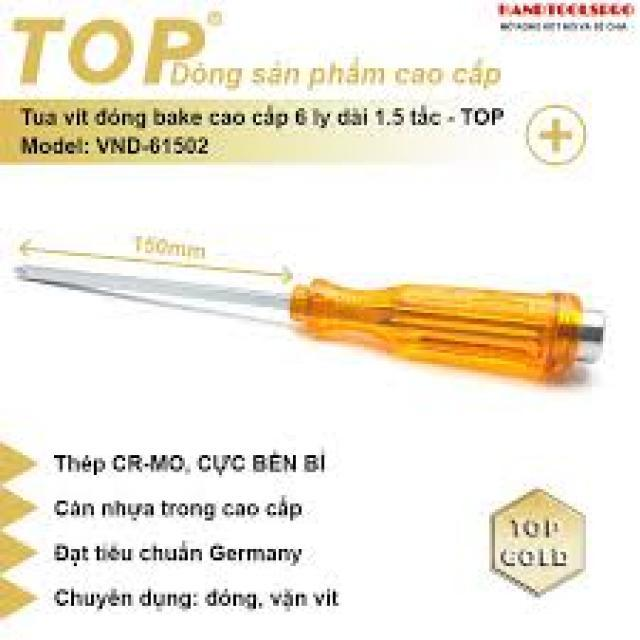screwdriver: (5, 255, 618, 382)
